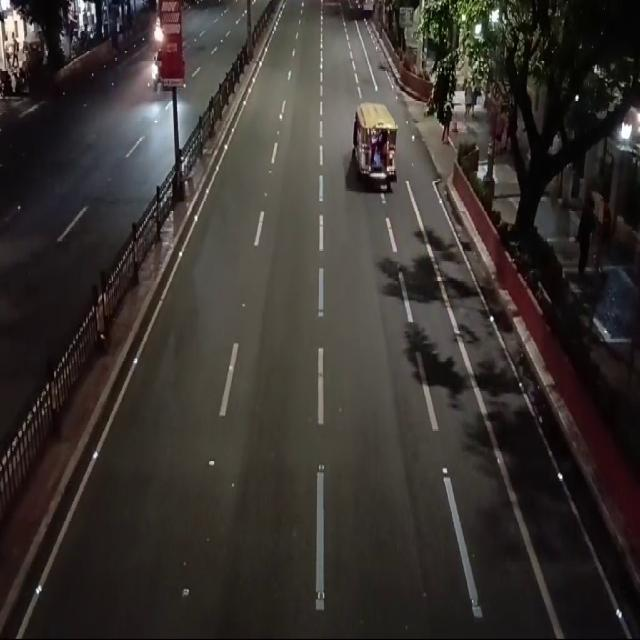jeepney: (351, 92, 403, 204)
